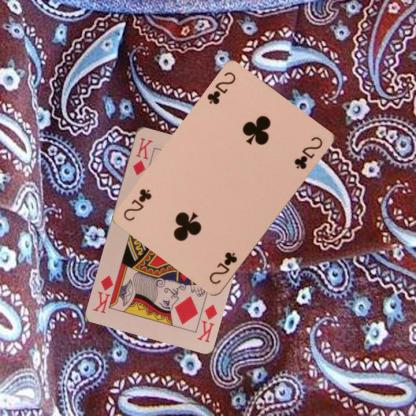2c: (206, 249, 239, 286), (204, 70, 237, 106)
Kd: (130, 134, 154, 176), (195, 301, 218, 344)
